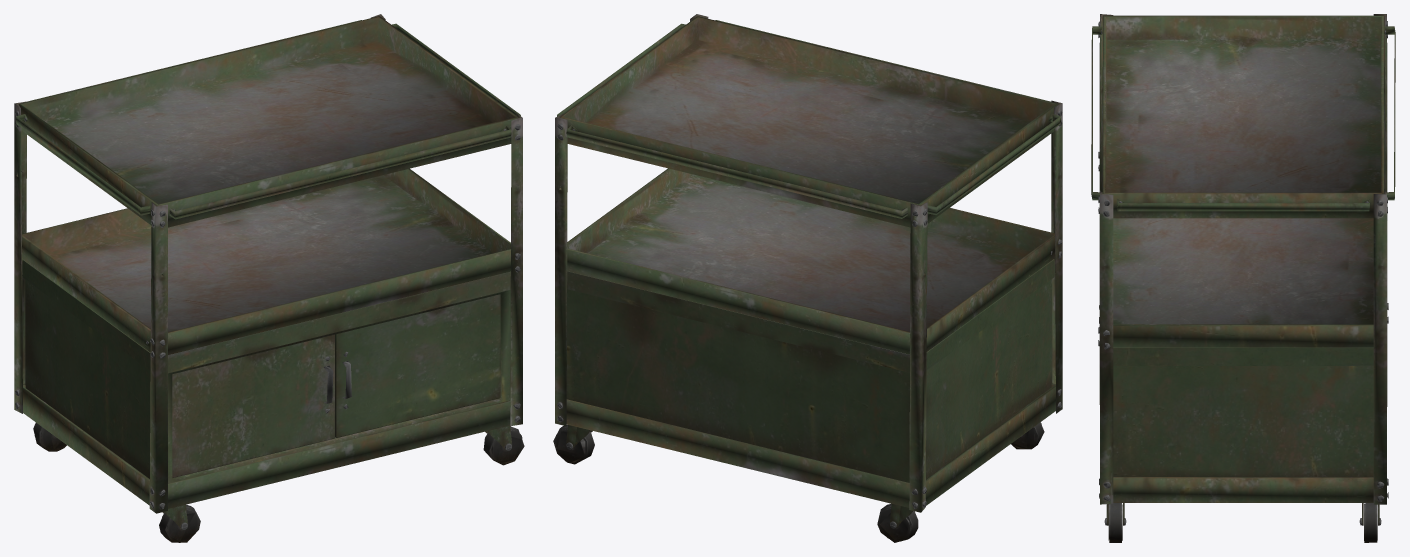
3 views of the same model, side by side, from view 1: azimuth 30°, elevation 25°; view 2: azimuth 150°, elevation 25°; view 3: azimuth 270°, elevation 25° (orthographic).
Parts seen in each view (by area): view 1: industrial_storage_cart; view 2: industrial_storage_cart; view 3: industrial_storage_cart.
Part boxes in pixels (x1,y1,x2,y2): industrial_storage_cart: [14, 14, 524, 542]; industrial_storage_cart: [553, 14, 1062, 542]; industrial_storage_cart: [1091, 14, 1395, 542].
Bounding box in the file's own units: 1.58 × 1.38 × 1.08.
Materials: 1 (1 with a texture image).
